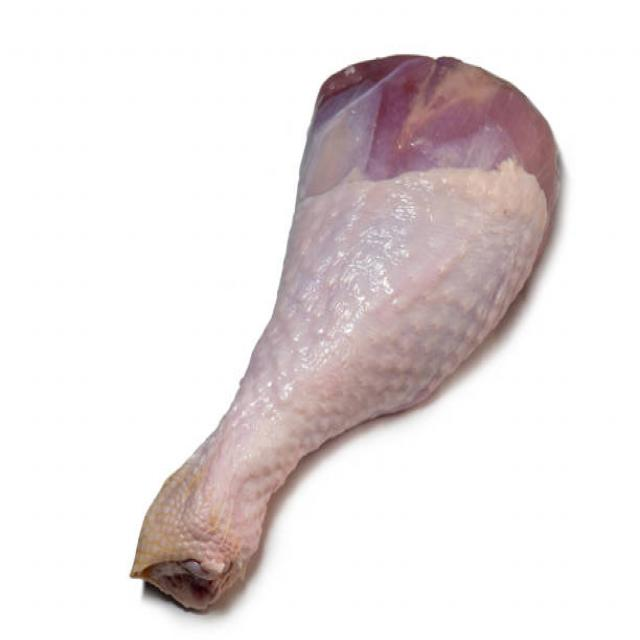Chicken Thigh: (117, 42, 568, 613)
